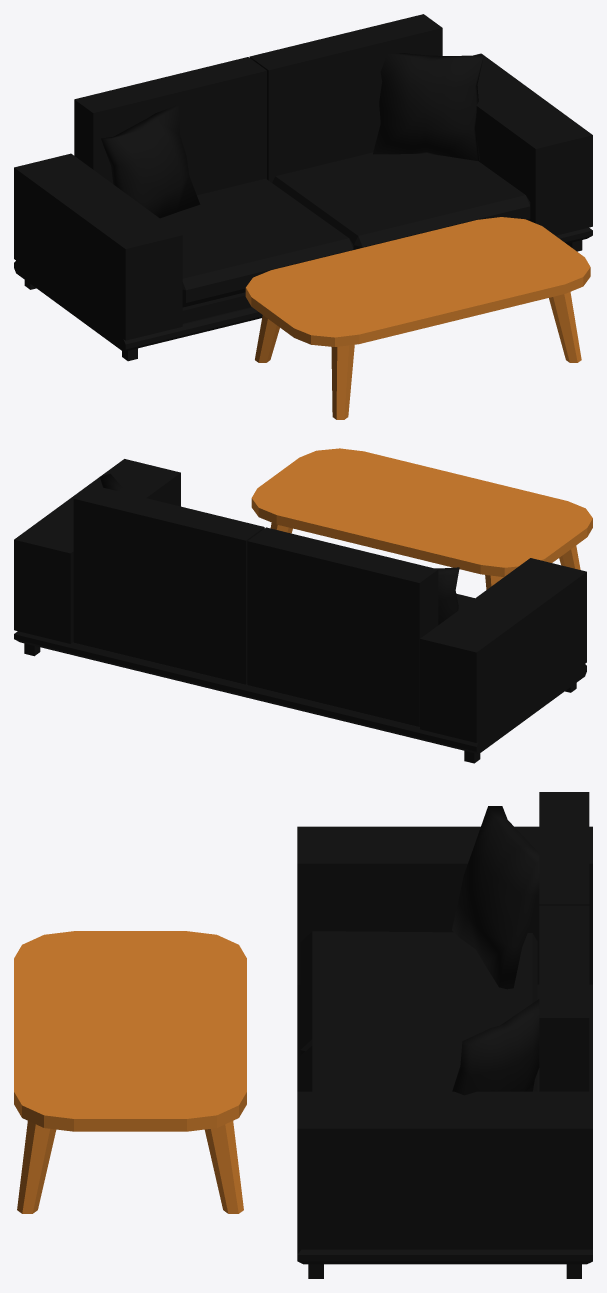
The model's file is Sofa.fbx.
3 renders of one model, top to bottom at view 1: azimuth 30°, elevation 25°; view 2: azimuth 150°, elevation 25°; view 3: azimuth 270°, elevation 25°, orthographic. The views are drawn at different scales.
Parts seen in each view (by area): view 1: Plane.038, Plane.004; view 2: Plane.038, Plane.004; view 3: Plane.038, Plane.004.
Boxes of the visible parts, box(x1,y1,x2,y2) form: Plane.038: box(14, 14, 592, 361); Plane.004: box(245, 217, 590, 419); Plane.038: box(14, 459, 586, 763); Plane.004: box(251, 448, 592, 589); Plane.038: box(297, 792, 592, 1278); Plane.004: box(14, 931, 246, 1213).
Size of the model in its own units: 2405 by 863 by 1949.
